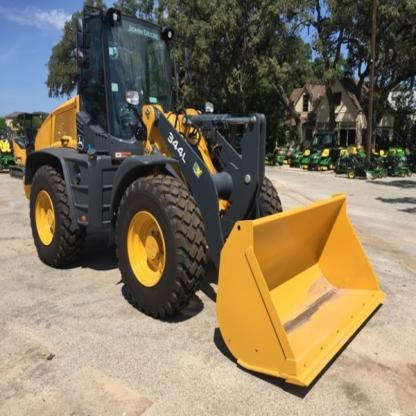bull_dozer/loader/grader: (28, 5, 390, 398)
